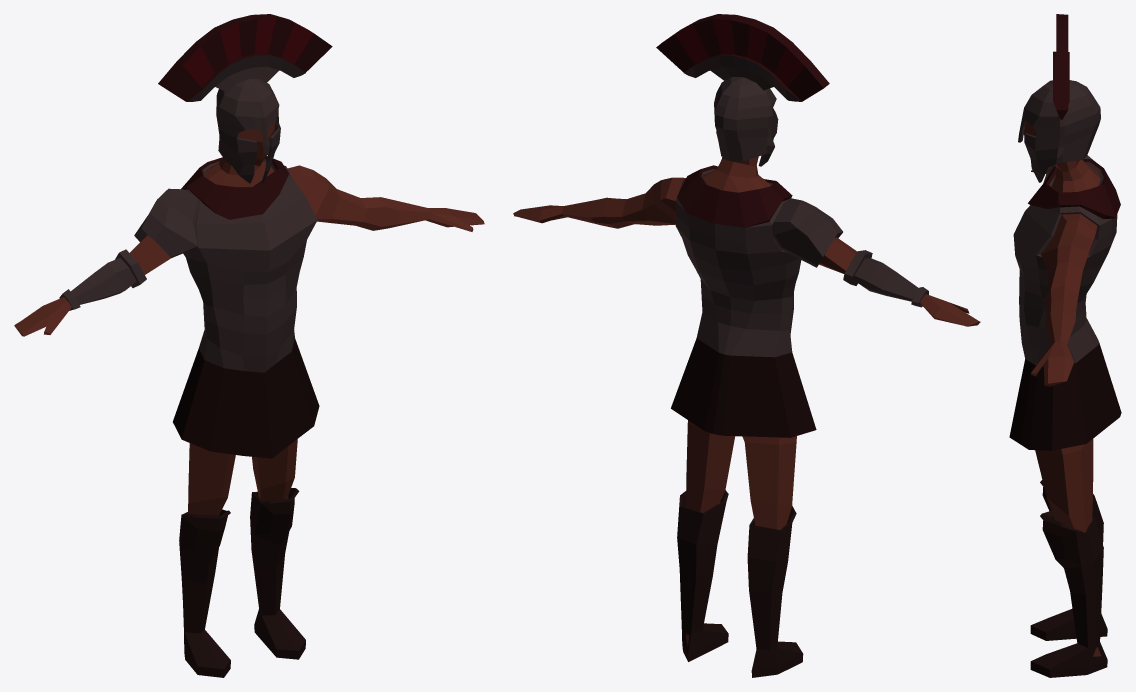
Rendered from Roman Centurion.fbx.
3 views of the same model, side by side, from view 1: azimuth 30°, elevation 25°; view 2: azimuth 150°, elevation 25°; view 3: azimuth 270°, elevation 25° (orthographic).
Parts seen in each view (by area): view 1: Shirt_Cylinder003-Mesh, Body_Cylinder, Shirt_Cylinder003-Mesh_1, Boots_Cylinder004, Helmet_Cylinder002, Helm_top_Cube001-Mesh_1, Cloak_Cylinder001, Shoulder_Cylinder006, Helm_top_Cube001-Mesh_2, Wrist_Guard_Cylinder005, Helm_top_Cube001-Mesh; view 2: Body_Cylinder, Shirt_Cylinder003-Mesh, Boots_Cylinder004, Shirt_Cylinder003-Mesh_1, Helmet_Cylinder002, Helm_top_Cube001-Mesh_1, Cloak_Cylinder001, Shoulder_Cylinder006, Helm_top_Cube001-Mesh_2, Wrist_Guard_Cylinder005, Helm_top_Cube001-Mesh; view 3: Body_Cylinder, Boots_Cylinder004, Shirt_Cylinder003-Mesh_1, Shirt_Cylinder003-Mesh, Helmet_Cylinder002, Cloak_Cylinder001, Helm_top_Cube001-Mesh_1.
Boxes of the visible parts, box(x1,y1,x2,y2) form: Shirt_Cylinder003-Mesh: box(183, 159, 317, 372); Body_Cylinder: box(14, 123, 484, 515); Shirt_Cylinder003-Mesh_1: box(173, 338, 319, 458); Boots_Cylinder004: box(179, 488, 305, 677); Helmet_Cylinder002: box(216, 78, 280, 183); Helm_top_Cube001-Mesh_1: box(158, 14, 332, 101); Cloak_Cylinder001: box(181, 156, 288, 219); Shoulder_Cylinder006: box(134, 188, 200, 257); Helm_top_Cube001-Mesh_2: box(182, 17, 313, 86); Wrist_Guard_Cylinder005: box(59, 249, 146, 310); Helm_top_Cube001-Mesh: box(187, 55, 305, 101); Body_Cylinder: box(513, 156, 980, 646); Shirt_Cylinder003-Mesh: box(675, 169, 801, 357); Boots_Cylinder004: box(677, 490, 803, 677); Shirt_Cylinder003-Mesh_1: box(671, 338, 816, 437); Helmet_Cylinder002: box(714, 77, 778, 166); Helm_top_Cube001-Mesh_1: box(656, 14, 829, 101); Cloak_Cylinder001: box(677, 165, 792, 227); Shoulder_Cylinder006: box(772, 198, 842, 267); Helm_top_Cube001-Mesh_2: box(675, 19, 804, 86); Wrist_Guard_Cylinder005: box(843, 250, 928, 307); Helm_top_Cube001-Mesh: box(684, 55, 801, 101); Body_Cylinder: box(1023, 121, 1100, 656); Boots_Cylinder004: box(1030, 480, 1107, 677); Shirt_Cylinder003-Mesh_1: box(1009, 342, 1121, 450); Shirt_Cylinder003-Mesh: box(1013, 162, 1117, 367); Helmet_Cylinder002: box(1018, 80, 1100, 182); Cloak_Cylinder001: box(1028, 159, 1120, 218); Helm_top_Cube001-Mesh_1: box(1053, 14, 1069, 119).
Size of the model in its own units: 2.77 by 3.66 by 0.5927.
